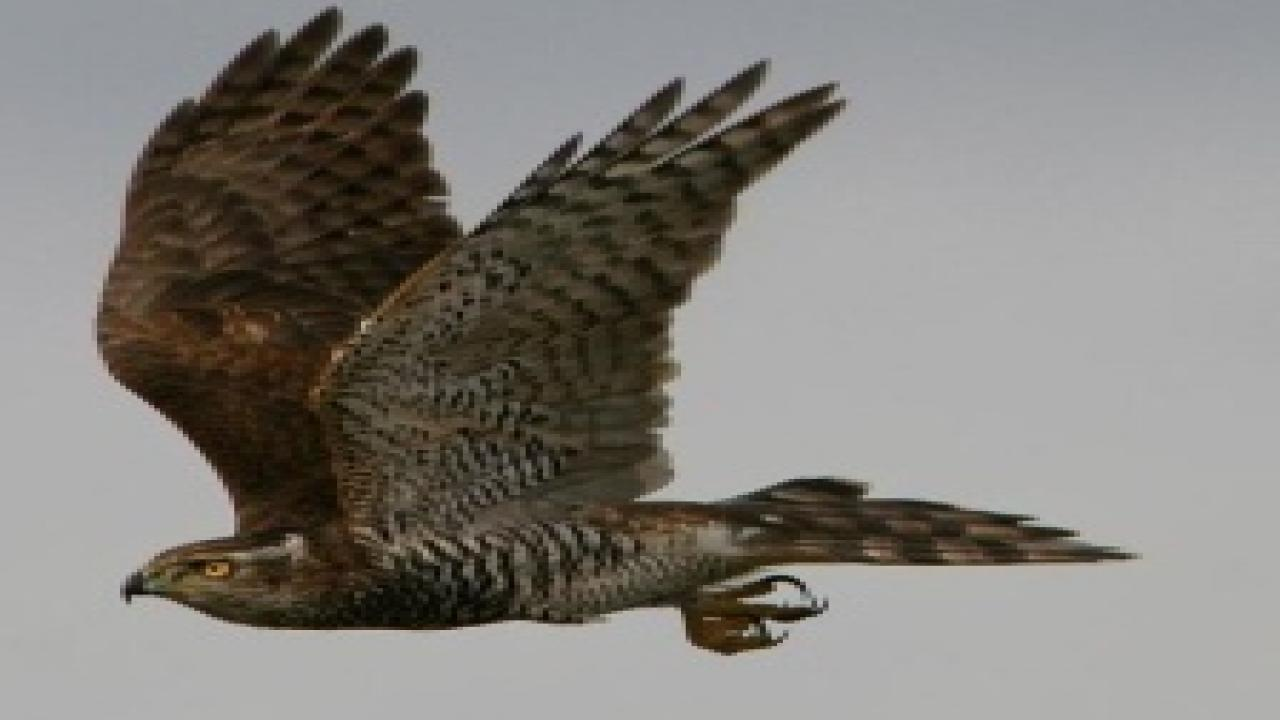Bird: (87, 0, 1156, 659)
